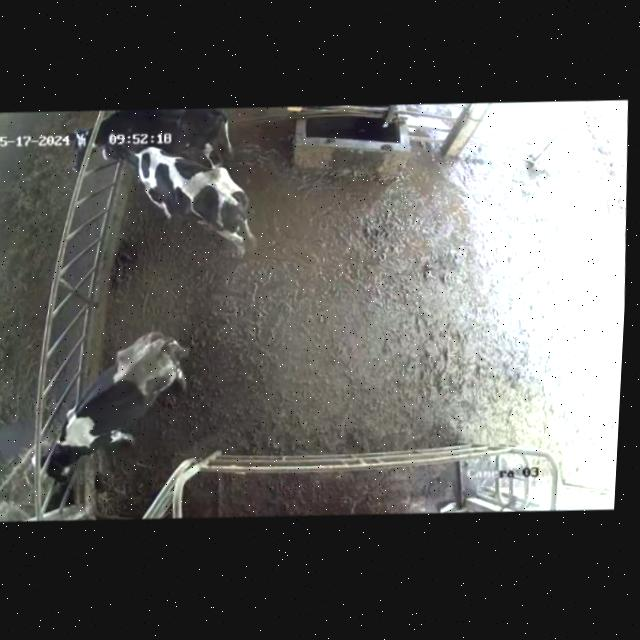eat: (0, 421, 108, 504), (28, 107, 162, 165)
stand: (98, 130, 272, 267)
